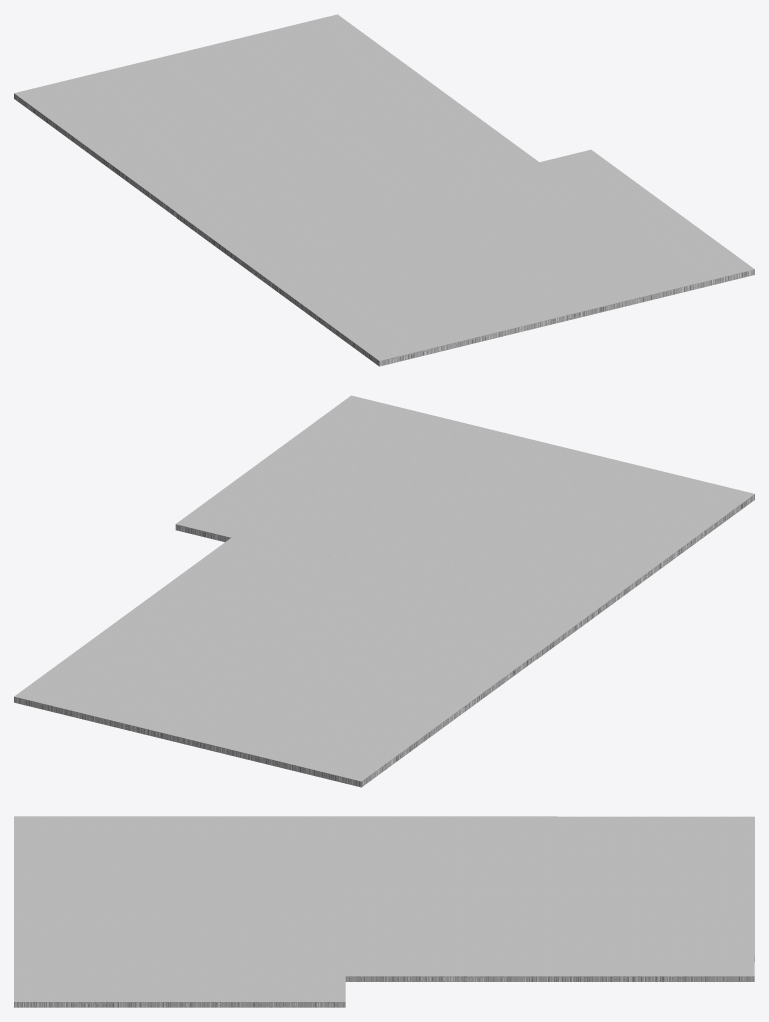
File: techo.glb
The picture shows the model from 3 angles, top to bottom: view 1: azimuth 30°, elevation 25°; view 2: azimuth 150°, elevation 25°; view 3: azimuth 270°, elevation 25°; orthographic projection. The views are drawn at different scales.
Parts seen in each view (by area): view 1: Suelo_TileTexture_0.002; view 2: Suelo_TileTexture_0.002; view 3: Suelo_TileTexture_0.002.
Part boxes in pixels (<box>): Suelo_TileTexture_0.002: <box>14,14,754,366</box>; Suelo_TileTexture_0.002: <box>14,395,754,787</box>; Suelo_TileTexture_0.002: <box>14,816,754,1007</box>.
Bounding box in the file's own units: 54.17 × 0.7675 × 91.34.
Materials: 1 (1 with a texture image).
